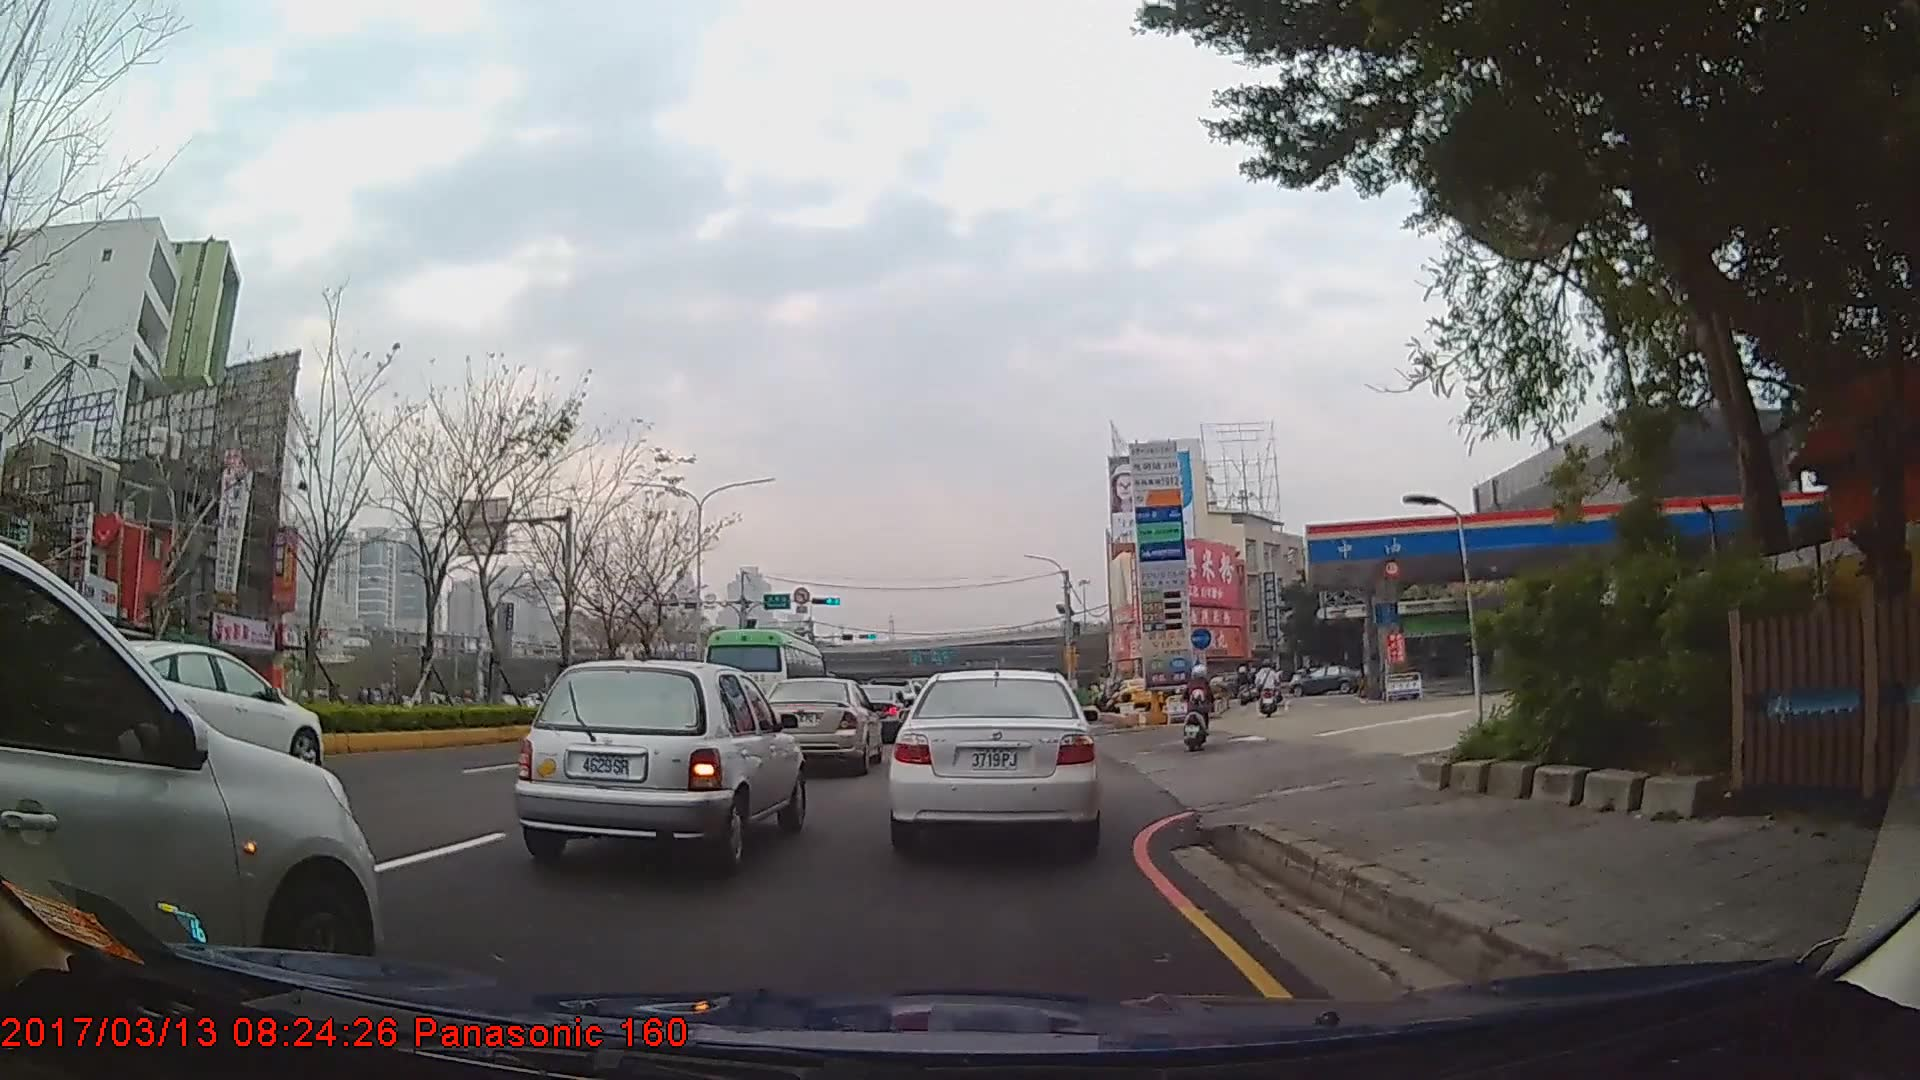rider: (1182, 663, 1216, 753), (1253, 659, 1282, 717)
vehicle: (0, 544, 385, 997), (510, 656, 809, 873), (886, 664, 1099, 853), (82, 637, 321, 768), (701, 627, 826, 729), (754, 676, 882, 772), (1289, 665, 1361, 696)
